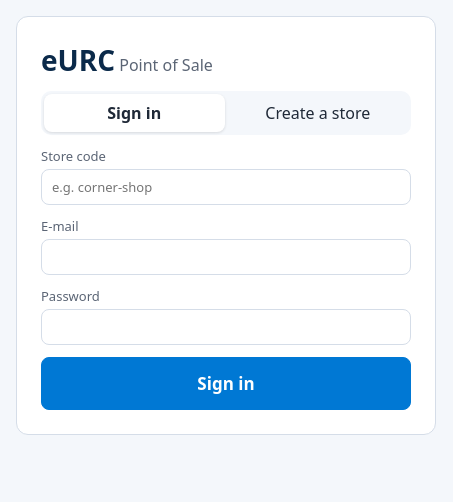
it: <Login> › shows the API error on failure
Type "demo" into the field labelled "Store code" at (226,187), box [41,169,411,205]
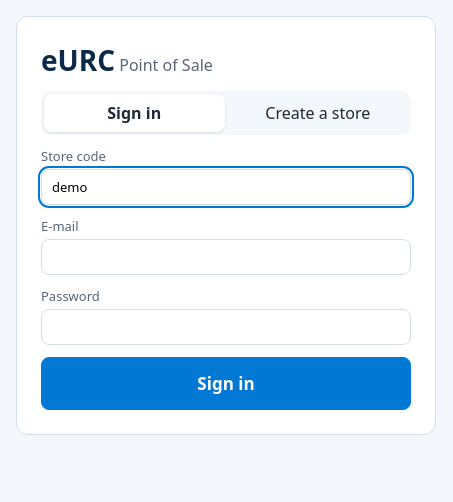
Type "x@demo.test" into the field labelled "E-mail" at (226,257), box [41,239,411,275]
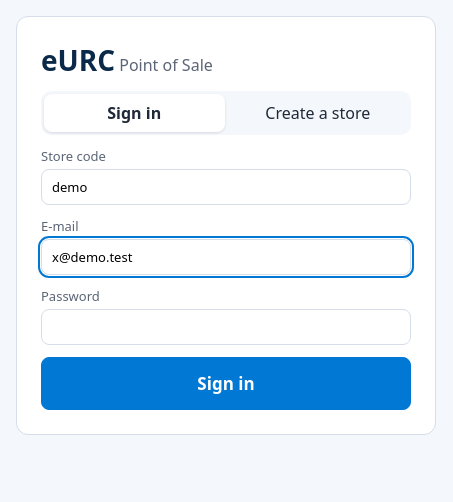
Type "nope" into the password field labelled "Password" at (226,327), box [41,309,411,345]
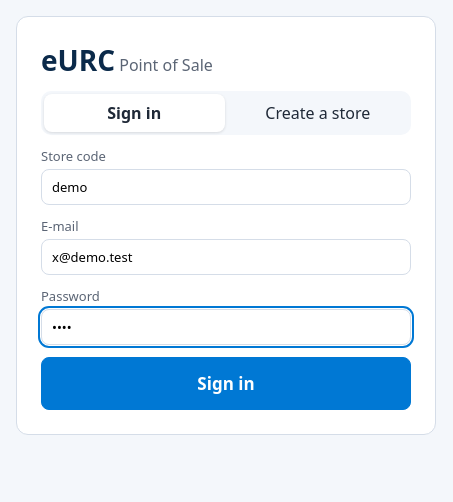
Click the button "Sign in" at (226,384), box [41,357,411,410]
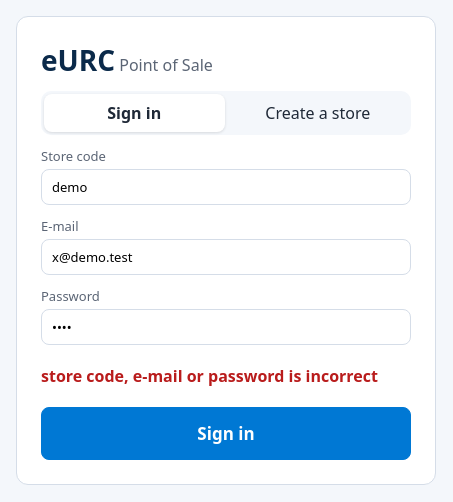
expect the message shows "incorrect": met, box [41,365,378,387]
